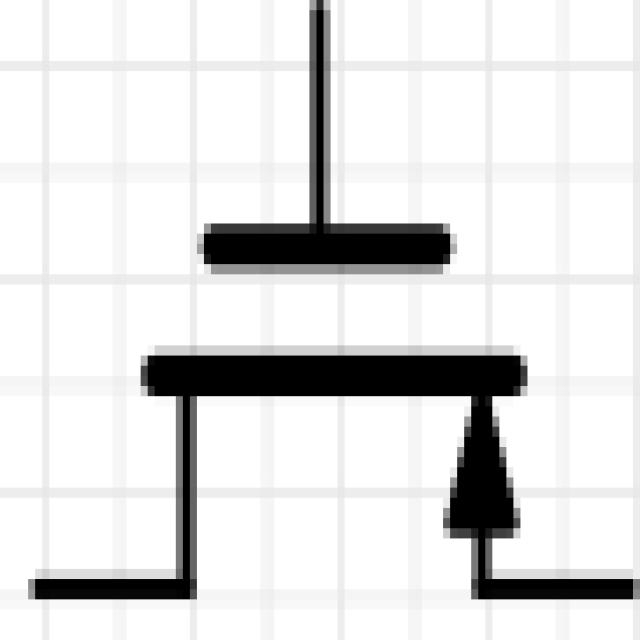pmos: (28, 10, 640, 630)
